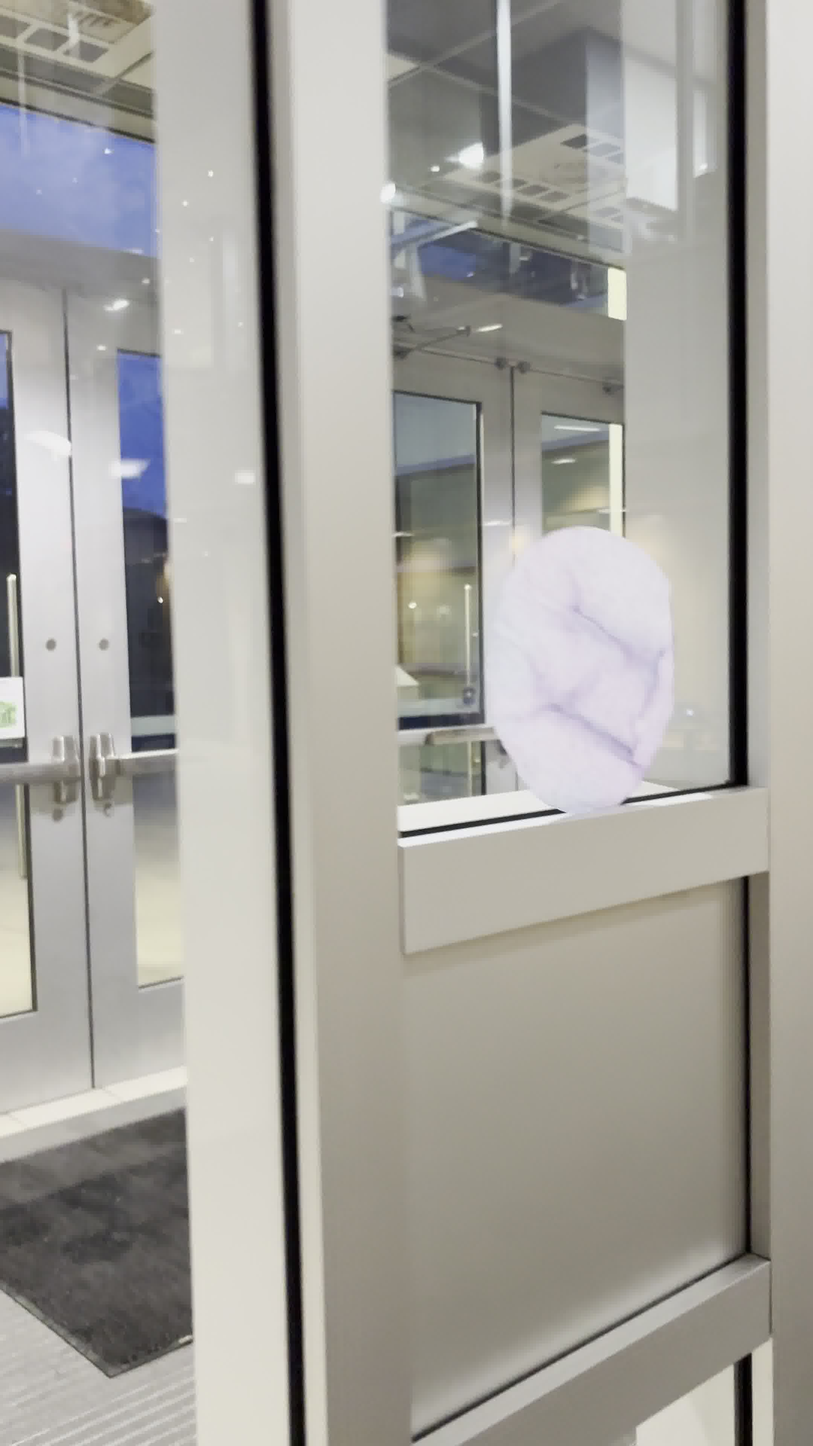Target: (477, 523, 679, 818)
